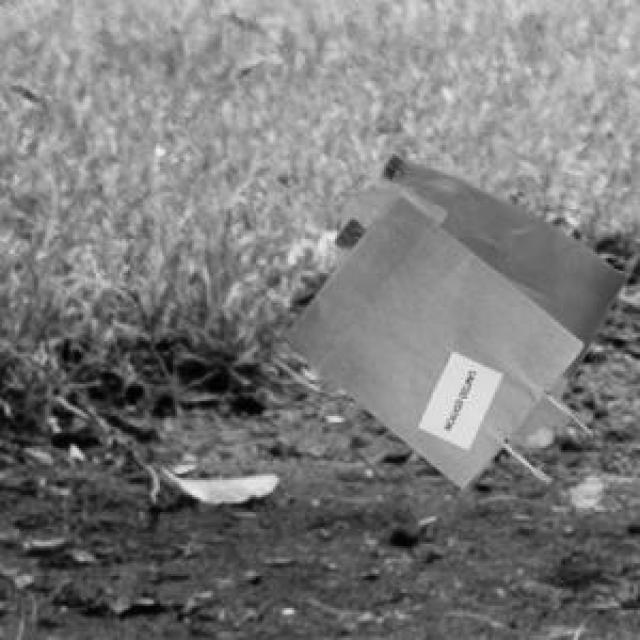paper: (282, 188, 585, 484)
